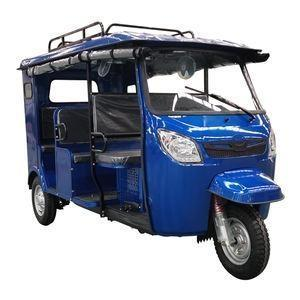keke: (30, 18, 292, 287)
